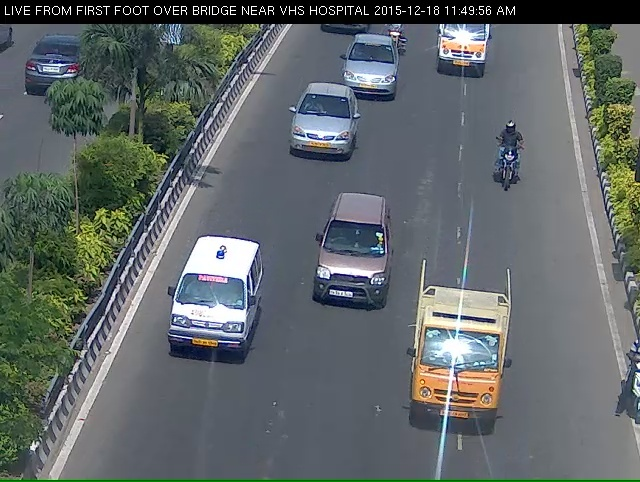Auto: (412, 274, 511, 450), (428, 24, 497, 84)
Car: (165, 243, 257, 382), (314, 199, 387, 324), (287, 91, 353, 171), (338, 42, 397, 105)
Person: (486, 126, 531, 204), (377, 22, 408, 60)
